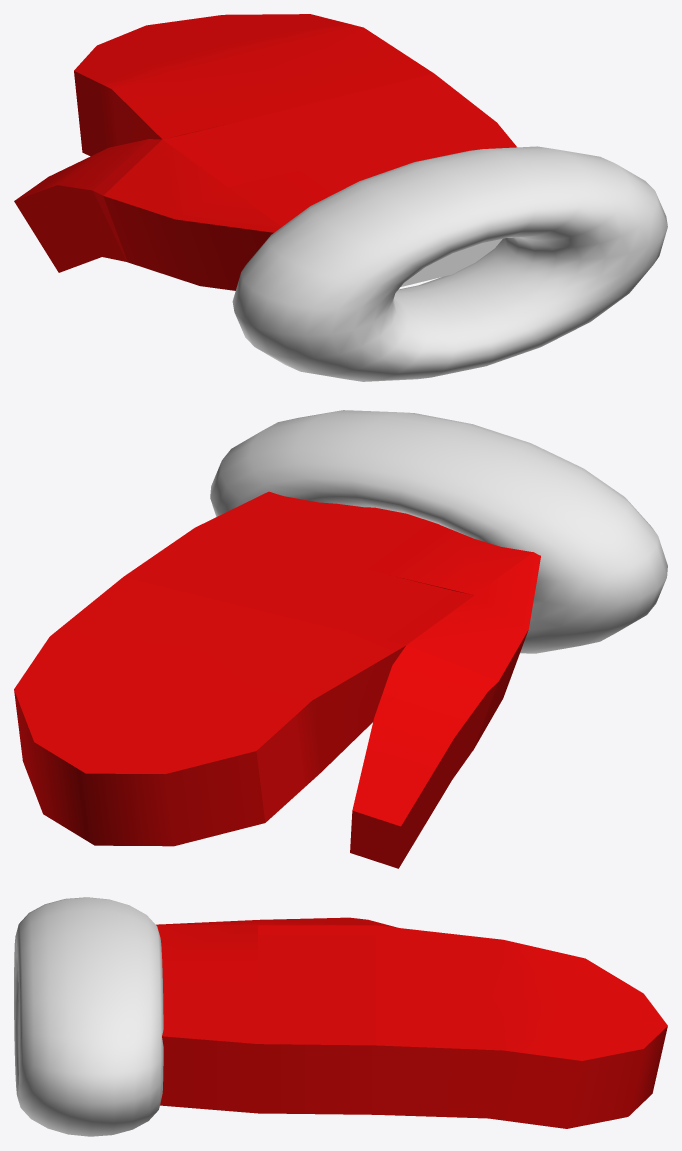
The model's file is mainD.fbx.
The picture shows the model from 3 angles, top to bottom: view 1: azimuth 30°, elevation 25°; view 2: azimuth 150°, elevation 25°; view 3: azimuth 270°, elevation 25°; orthographic projection. The views are drawn at different scales.
Visible parts, largest first — view 1: pCube2; view 2: pCube2; view 3: pCube2.
Boxes of the visible parts, left/top/right/bottom form: pCube2: left=14, top=14, right=667, bottom=381; pCube2: left=14, top=410, right=667, bottom=868; pCube2: left=14, top=897, right=667, bottom=1136.
Bounding box in the file's own units: 1.65 × 0.8165 × 2.5.
